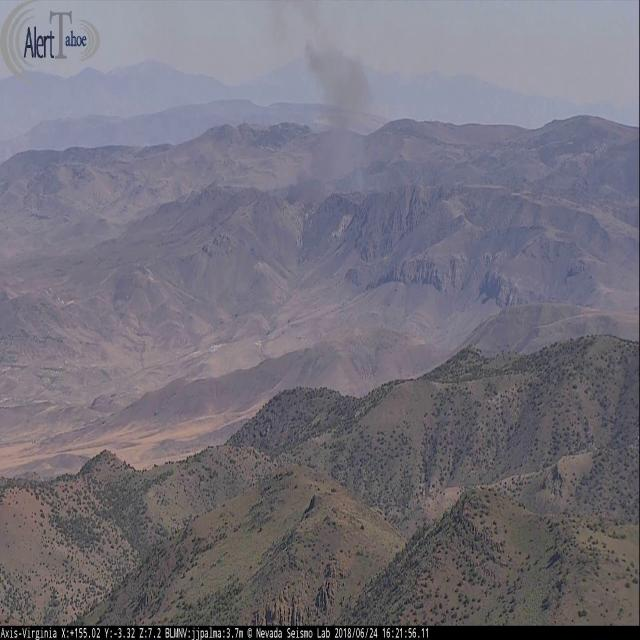smoke: (272, 6, 377, 186)
